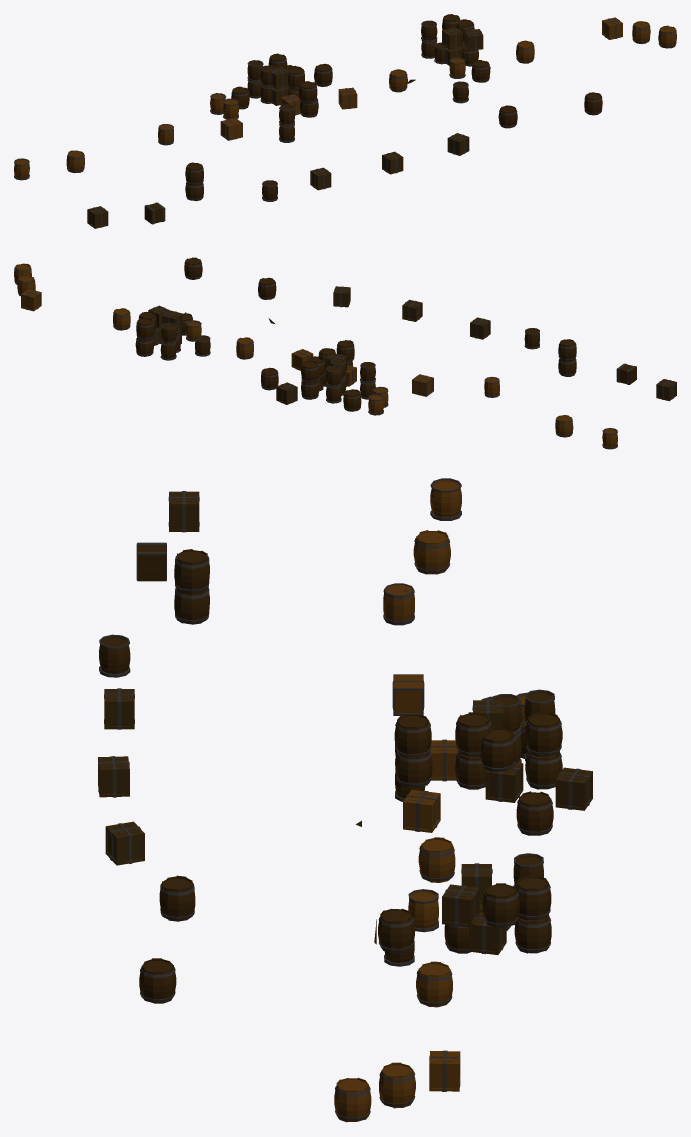
Rendered from DogLevelPathBarrelsv3.glb.
3 renders of one model, top to bottom at view 1: azimuth 30°, elevation 25°; view 2: azimuth 150°, elevation 25°; view 3: azimuth 270°, elevation 25°, orthographic. The views are drawn at different scales.
Parts seen in each view (by area): view 1: Wooden Crate 3.268; view 2: Wooden Crate 3.268; view 3: Wooden Crate 3.268.
Boxes of the visible parts, left/top/right/bottom form: Wooden Crate 3.268: left=14, top=14, right=676, bottom=228; Wooden Crate 3.268: left=14, top=257, right=676, bottom=449; Wooden Crate 3.268: left=98, top=478, right=592, bottom=1122.
Bounding box in the file's own units: 23.81 × 1.85 × 8.17.
